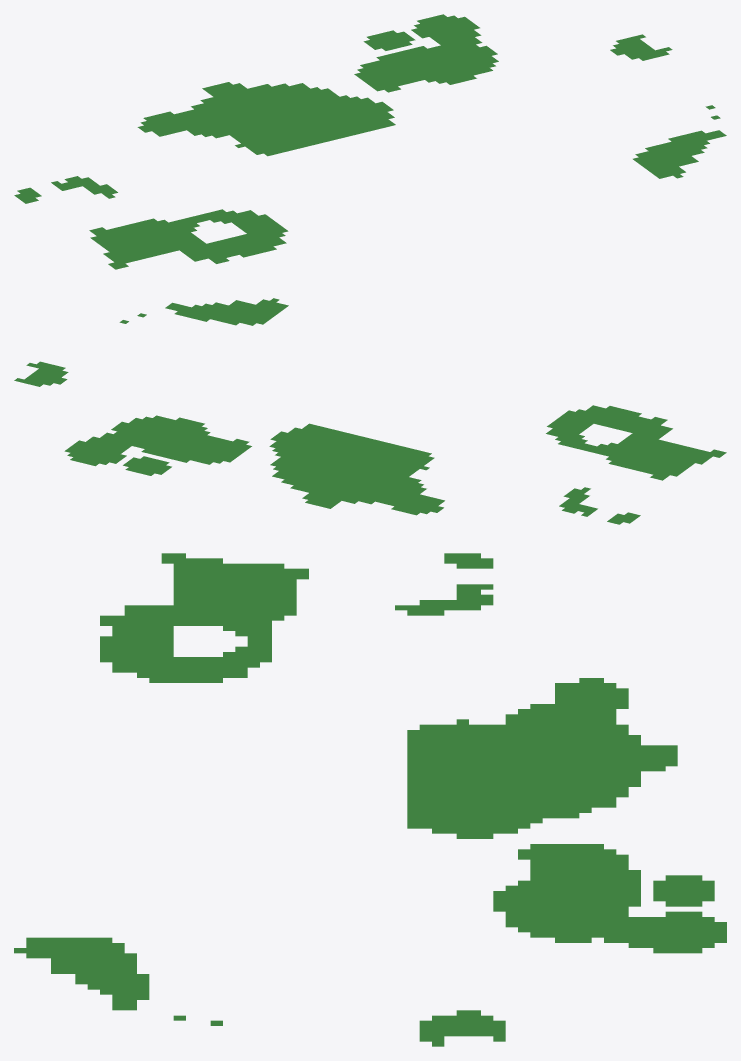
File: Isl-bot6-TreesArea.fbx
The picture shows the model from 3 angles, top to bottom: view 1: azimuth 30°, elevation 25°; view 2: azimuth 150°, elevation 25°; view 3: azimuth 270°, elevation 25°; orthographic projection. The views are drawn at different scales.
Visible parts, largest first — view 1: Isl-bot6-TreesArea; view 2: Isl-bot6-TreesArea; view 3: Isl-bot6-TreesArea.
Part boxes in pixels (bbox=[...]): Isl-bot6-TreesArea: bbox=[14, 14, 726, 269]; Isl-bot6-TreesArea: bbox=[14, 298, 726, 524]; Isl-bot6-TreesArea: bbox=[14, 553, 726, 1046].
Size of the model in its own units: 95 by 0 by 58.
